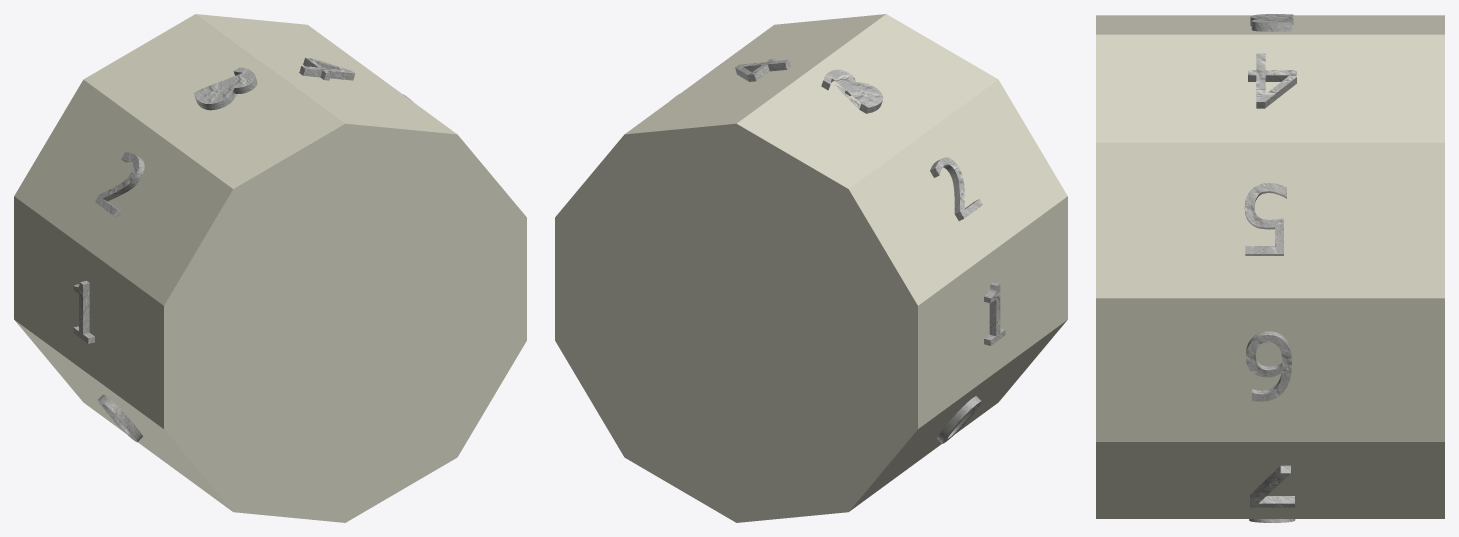
Rendered from Lock.fbx.
3 renders of one model, left to right at view 1: azimuth 30°, elevation 25°; view 2: azimuth 150°, elevation 25°; view 3: azimuth 270°, elevation 25°, orthographic. The views are drawn at different scales.
Parts seen in each view (by area): view 1: Model, G_3_1, G_2_1, G_4_1, G_1_1, G_0_1; view 2: Model, G_3_1, G_2_1, G_1_1, G_4_1, G_0_1; view 3: Model, G_6_1, G_5_1, G_4_1, G_7_1, G_3_1.
Boxes of the visible parts, bbox=[...] form: Model: bbox=[14, 14, 526, 522]; G_3_1: bbox=[194, 67, 257, 110]; G_2_1: bbox=[95, 152, 144, 218]; G_4_1: bbox=[299, 57, 355, 80]; G_1_1: bbox=[73, 280, 94, 343]; G_0_1: bbox=[98, 394, 142, 442]; Model: bbox=[555, 14, 1067, 522]; G_3_1: bbox=[821, 69, 883, 113]; G_2_1: bbox=[930, 157, 982, 220]; G_1_1: bbox=[984, 282, 1005, 345]; G_4_1: bbox=[735, 59, 790, 81]; G_0_1: bbox=[937, 396, 981, 443]; Model: bbox=[1096, 15, 1444, 518]; G_6_1: bbox=[1246, 331, 1291, 401]; G_5_1: bbox=[1244, 183, 1286, 255]; G_4_1: bbox=[1248, 53, 1296, 108]; G_7_1: bbox=[1250, 465, 1294, 507]; G_3_1: bbox=[1250, 14, 1293, 31].
Bounding box in the file's own units: 1.7 × 1.73 × 1.17.
